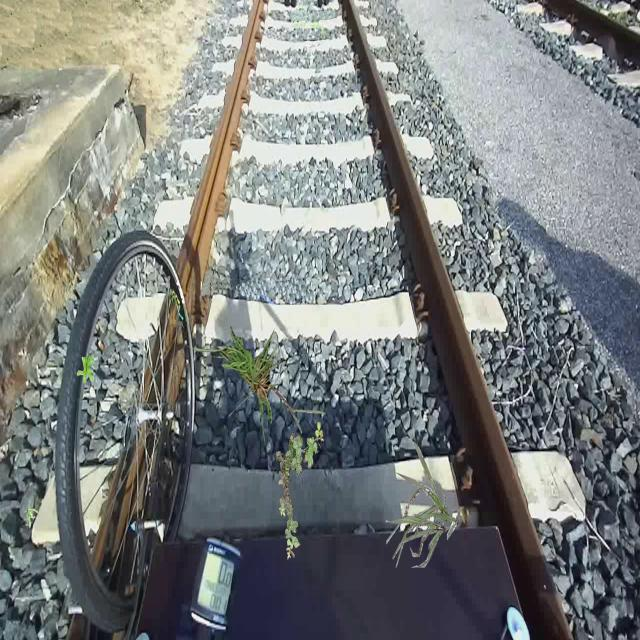Plant: (183, 325, 326, 444), (386, 443, 459, 568), (276, 422, 324, 560), (77, 353, 94, 385), (24, 508, 38, 528)
